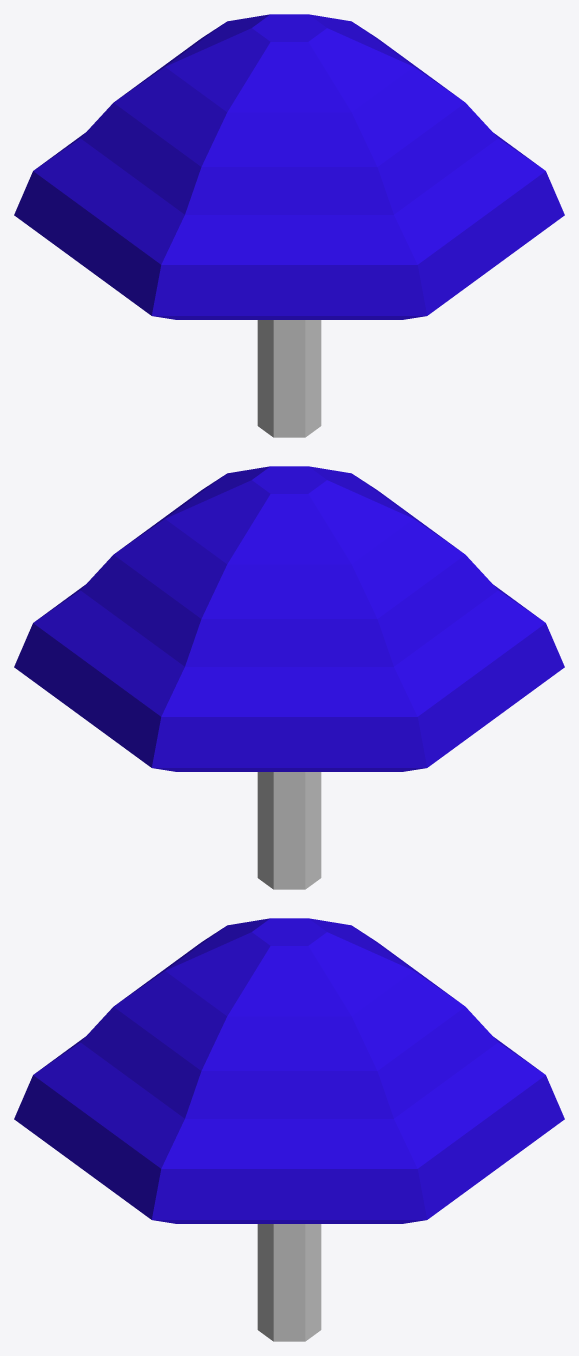
Rendered from Mushroom_01Mini.fbx.
The picture shows the model from 3 angles, top to bottom: view 1: azimuth 30°, elevation 25°; view 2: azimuth 150°, elevation 25°; view 3: azimuth 270°, elevation 25°; orthographic projection.
Parts seen in each view (by area): view 1: Mushroom_01Mini; view 2: Mushroom_01Mini; view 3: Mushroom_01Mini.
Part boxes in pixels (x1,y1,x2,y2): Mushroom_01Mini: (14,14,564,437); Mushroom_01Mini: (14,466,564,889); Mushroom_01Mini: (14,918,564,1341).
Bounding box in the file's own units: 60.16 × 55.37 × 69.47.
